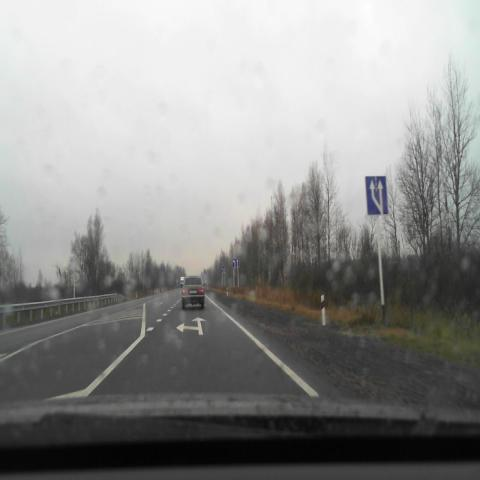5_15_3: (365, 175, 388, 215)
